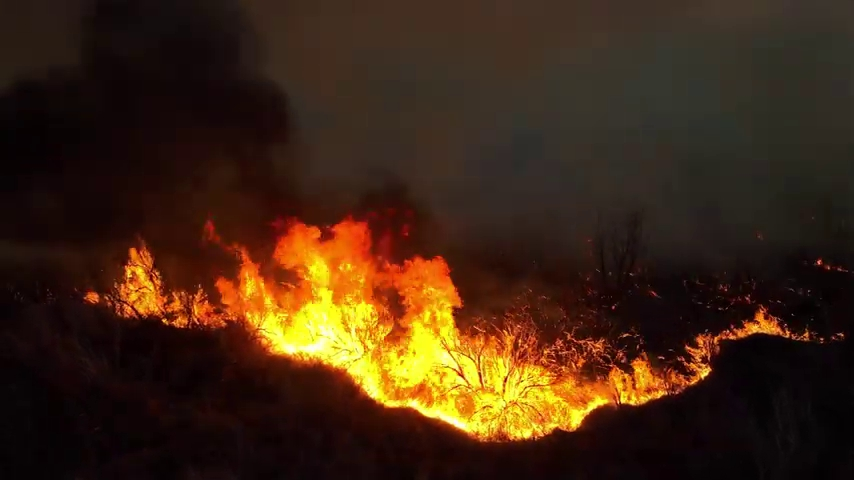forest_fire: (85, 219, 813, 438)
